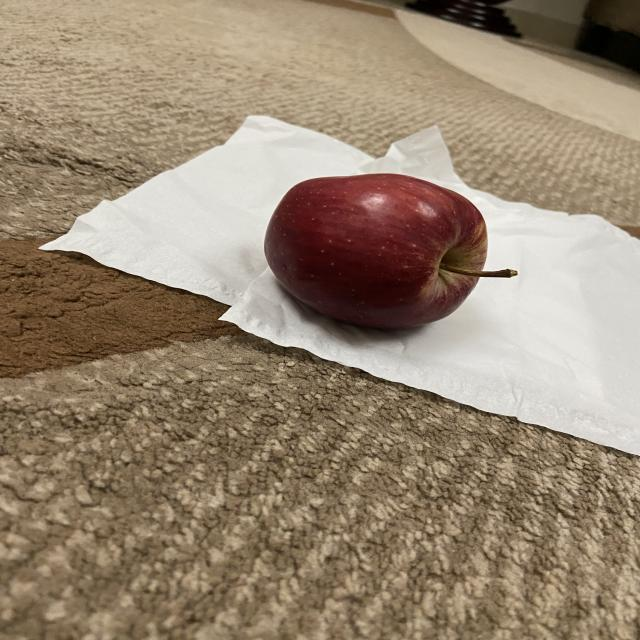apple: (259, 170, 523, 338)
